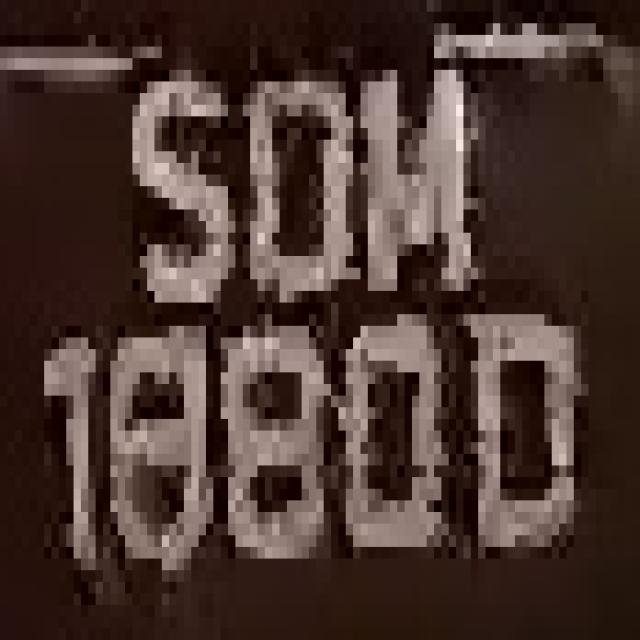0: (324, 279, 456, 570)
1: (37, 314, 103, 570)
8: (198, 291, 346, 605), (88, 291, 206, 582)
D: (464, 279, 588, 582)
M: (353, 47, 500, 314)
O: (250, 58, 368, 291)
S: (103, 35, 235, 326)
